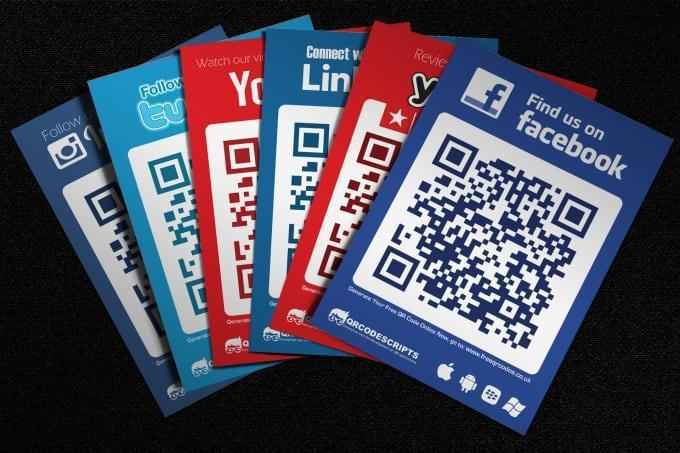qr_code: (373, 134, 599, 351), (83, 180, 166, 340), (318, 131, 403, 279), (148, 151, 208, 316), (287, 122, 337, 279), (222, 137, 260, 299)
